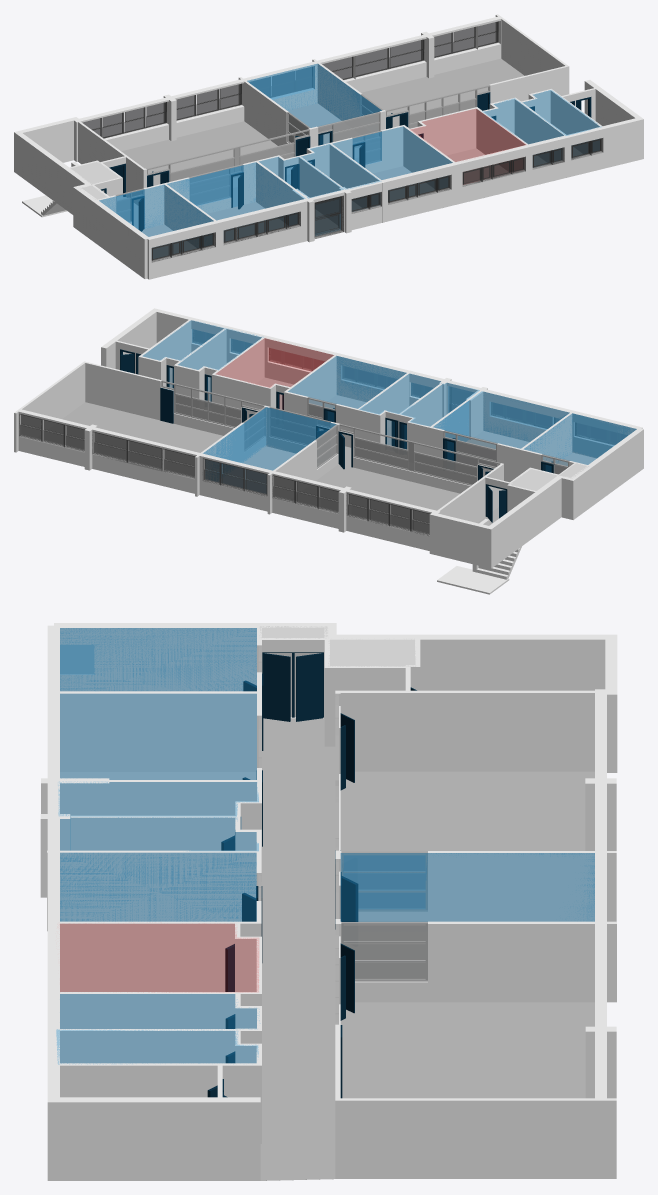
The model's file is EPI2-4 - Makerspace - 02 - Simples Volumes.glb.
3 views of the same model, one above another, from view 1: azimuth 30°, elevation 25°; view 2: azimuth 150°, elevation 25°; view 3: azimuth 270°, elevation 25° (orthographic). The views are drawn at different scales.
Visible parts, largest first — view 1: Mur020, Floor, PrinterLab, CraftRoom, MecaLab, UniMakers, MediaLab, Fen\xeatre001, TechnicalRoom, OnDemandRoom, Office, ResinLab (+21 smaller); view 2: Mur020, Floor, PrinterLab, CraftRoom, MecaLab, UniMakers, MediaLab, Fen\xeatre001, Fen\xeatre005, TechnicalRoom, Office, OnDemandRoom (+24 smaller); view 3: Mur020, Floor, PrinterLab, CraftRoom, MecaLab, UniMakers, MediaLab, OnDemandRoom, TechnicalRoom, Office, ResinLab, Fen\xeatre046 (+8 smaller).
Part boxes in pixels (x1,y1,x2,y2): Mur020: (14,14,643,279); Floor: (121,58,581,258); PrinterLab: (247,64,381,144); CraftRoom: (167,162,305,220); MecaLab: (333,126,452,179); UniMakers: (411,109,525,161); MediaLab: (99,185,213,247); Fen\xeatre001: (146,129,309,182); TechnicalRoom: (482,98,565,143); OnDemandRoom: (259,157,343,235); Office: (301,144,380,189); ResinLab: (523,90,601,135); Mur020: (14,308,643,594); Floor: (37,373,596,533); PrinterLab: (203,407,335,483); CraftRoom: (433,391,569,460); MecaLab: (288,356,406,421); UniMakers: (217,338,333,409); MediaLab: (524,413,636,472); Fen\xeatre001: (339,424,500,485); Fen\xeatre005: (161,380,264,427); TechnicalRoom: (178,328,261,401); Office: (359,374,440,446); OnDemandRoom: (400,383,479,448); Mur020: (40,623,617,1180); Floor: (60,718,594,1180); PrinterLab: (341,853,594,921); CraftRoom: (60,694,256,779); MecaLab: (60,852,256,921); UniMakers: (60,924,258,991); MediaLab: (60,628,256,691); OnDemandRoom: (58,782,258,829); TechnicalRoom: (60,994,259,1029); Office: (60,817,258,850); ResinLab: (56,1030,258,1064); Fen\xeatre046: (341,851,427,911).
Bounding box in the file's own units: 32.73 × 4.37 × 16.64.
